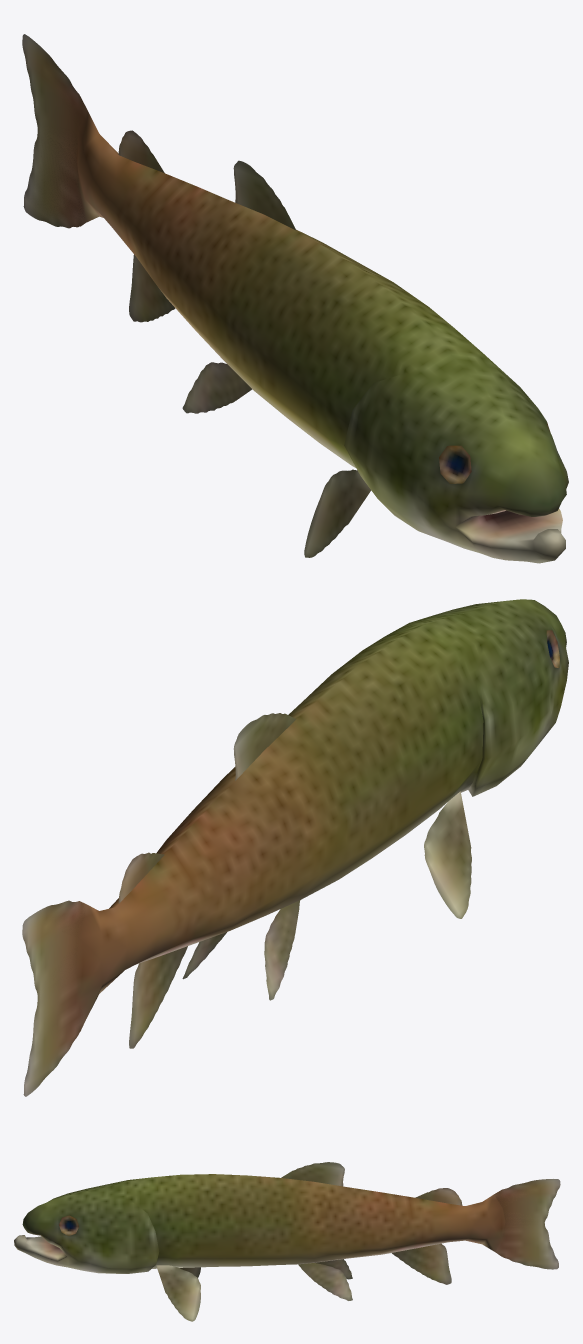
File: stringfish.glb
3 views of the same model, one above another, from view 1: azimuth 30°, elevation 25°; view 2: azimuth 150°, elevation 25°; view 3: azimuth 270°, elevation 25° (orthographic). The views are drawn at different scales.
Size of the model in its own units: 2.65 by 4.44 by 14.89.
1 material, 1 textured.
